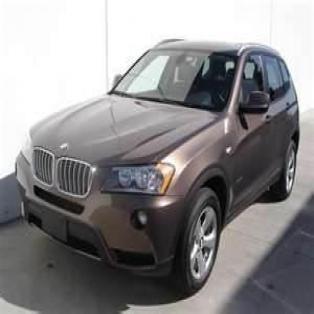Auto: (13, 38, 302, 300)
